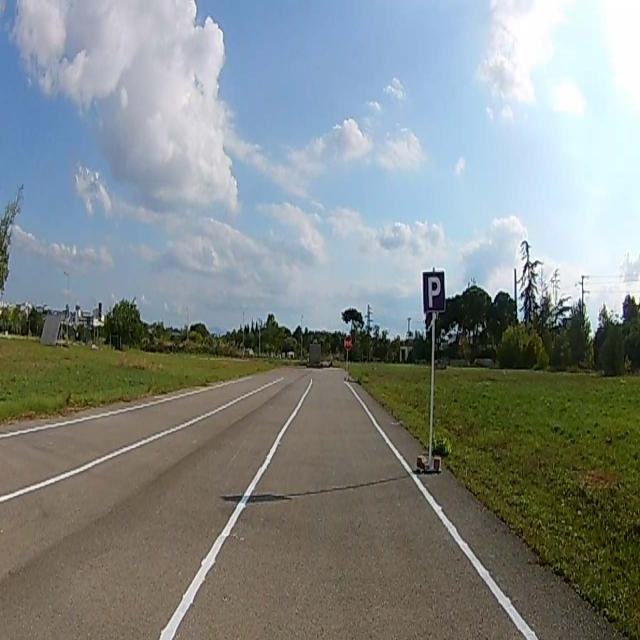park: (424, 271, 446, 309)
